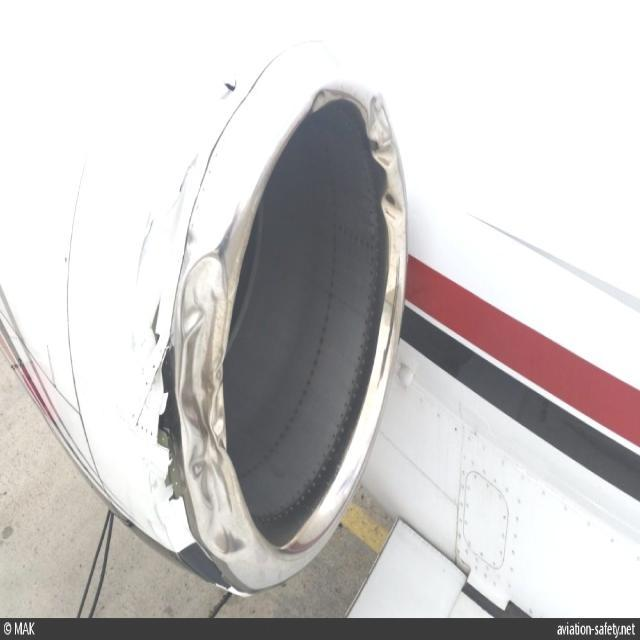dent: (179, 258, 227, 448), (188, 459, 233, 520), (371, 97, 396, 174), (215, 527, 248, 554), (384, 191, 407, 223)
